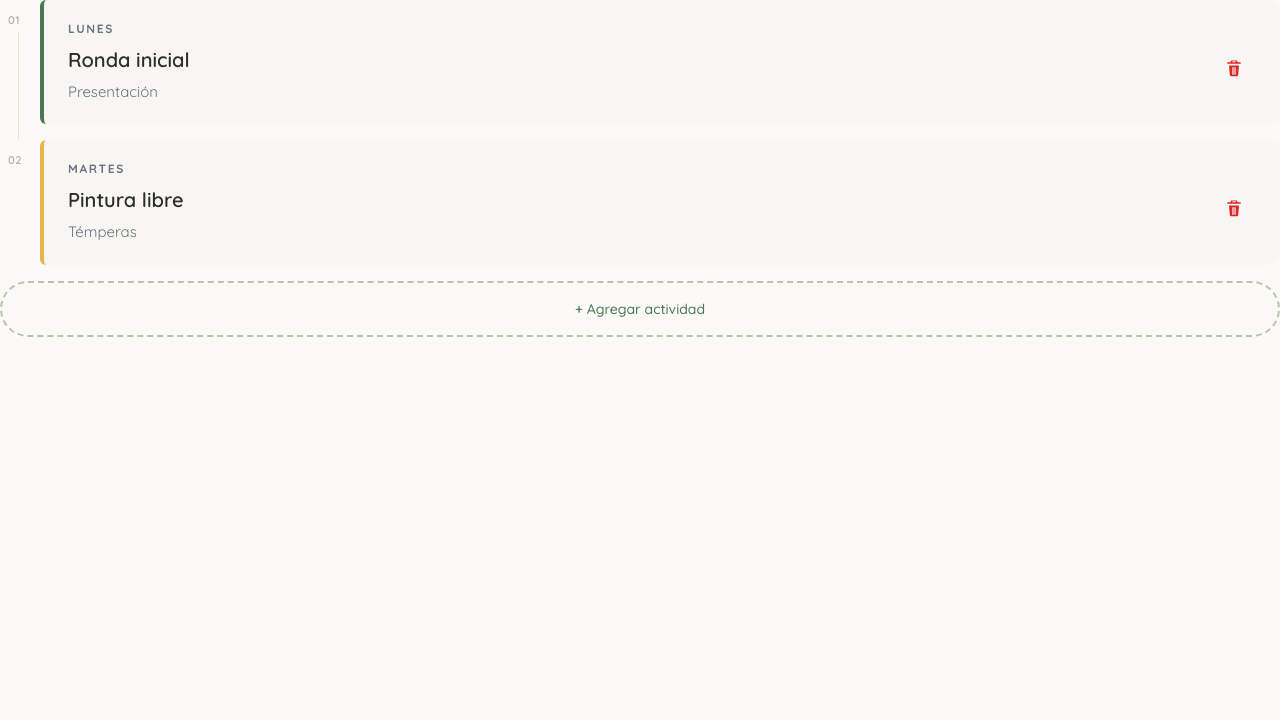
Test: ActividadesTab + PlanContext: eliminar actividad (integración con MSW) › muestra el error del endpoint, no borra nada y permite reintentar
The image size is (1280, 720).
Expected: the text "Ronda inicial" is shown, [68, 47, 190, 72]
Click the button named "Eliminar actividad: Pintura libre" at {"x": 1234, "y": 208}, box [1212, 186, 1256, 230]
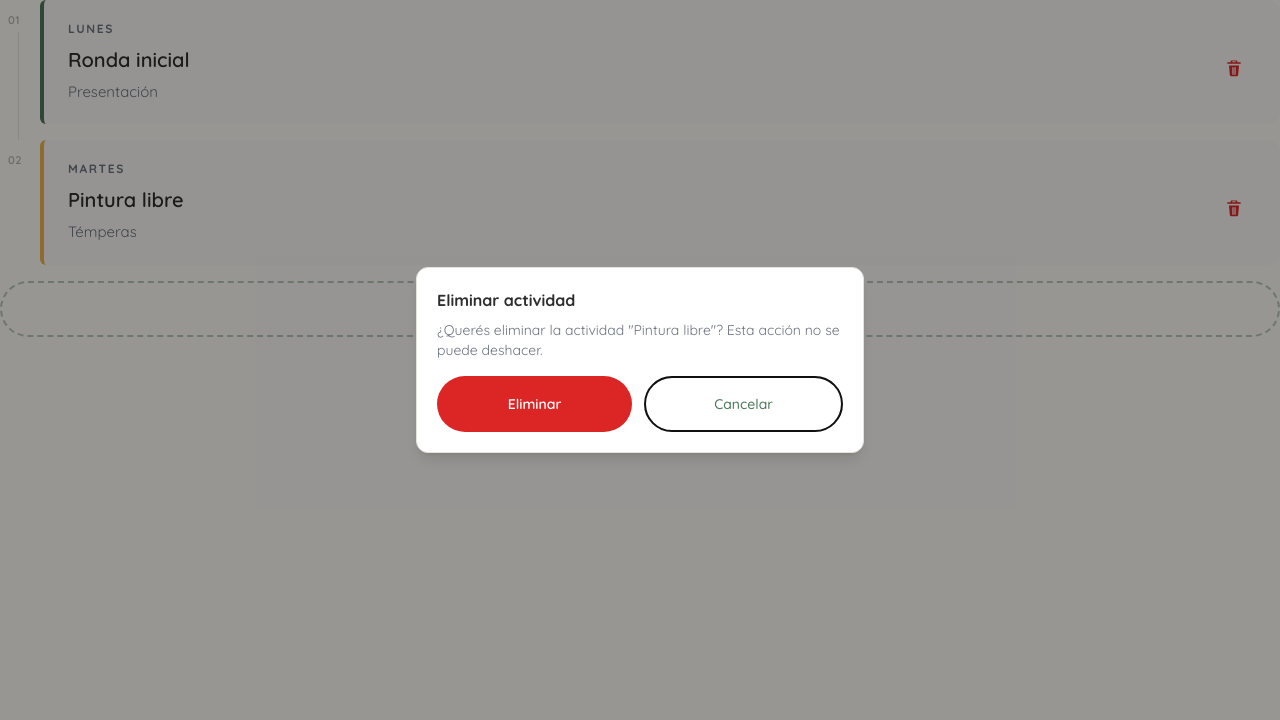
Click the button "Eliminar" at {"x": 534, "y": 404}, box [437, 376, 632, 432]
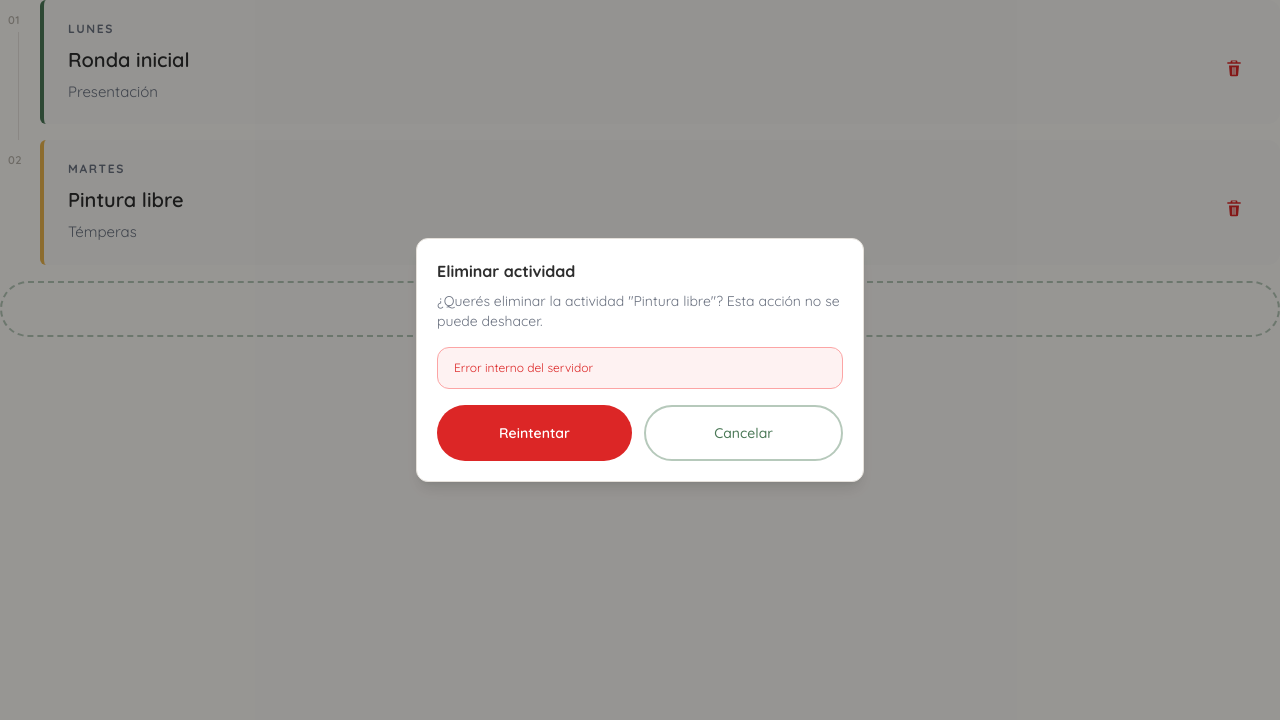
Expected: the text "Pintura libre" is shown, [68, 187, 184, 212]
Expected: the dialog is shown, [416, 238, 864, 482]
Expected: the message reads "Error interno del servidor", [454, 360, 593, 375]
Click the button "Reintentar" at {"x": 534, "y": 433}, box [437, 405, 632, 461]
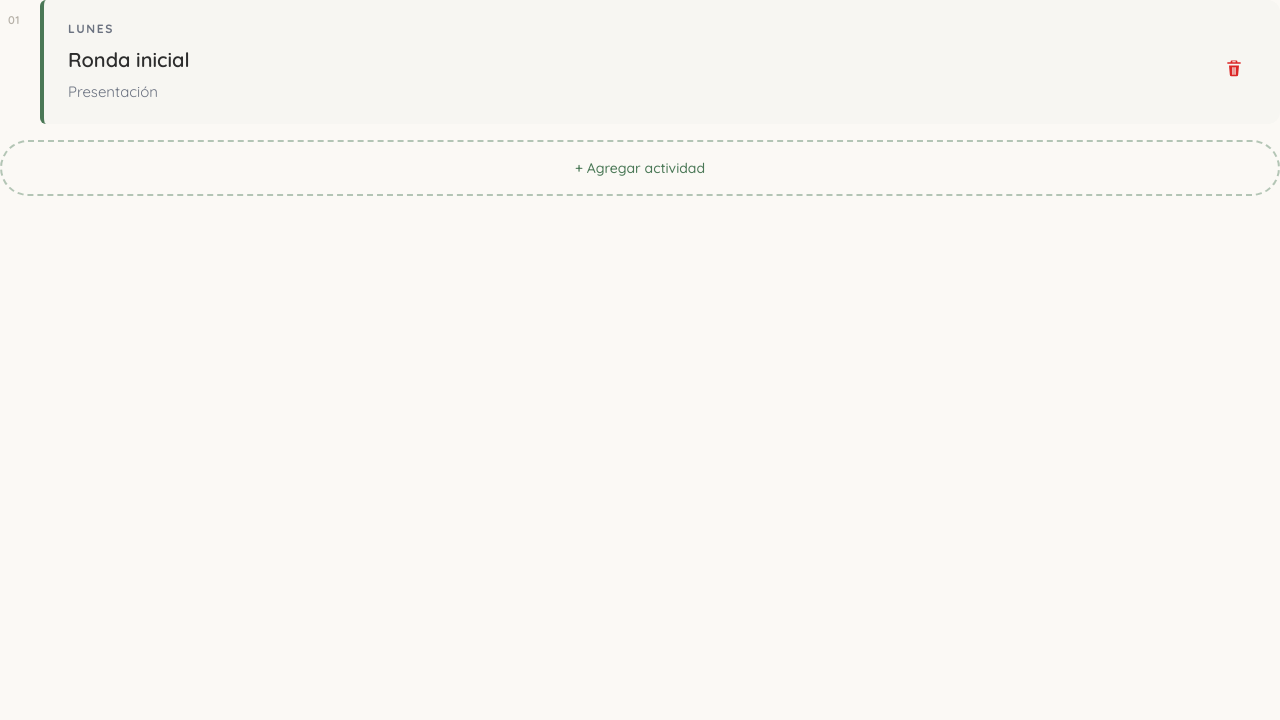
Expected: the dialog is gone
Expected: the button "Pintura libre" is gone
